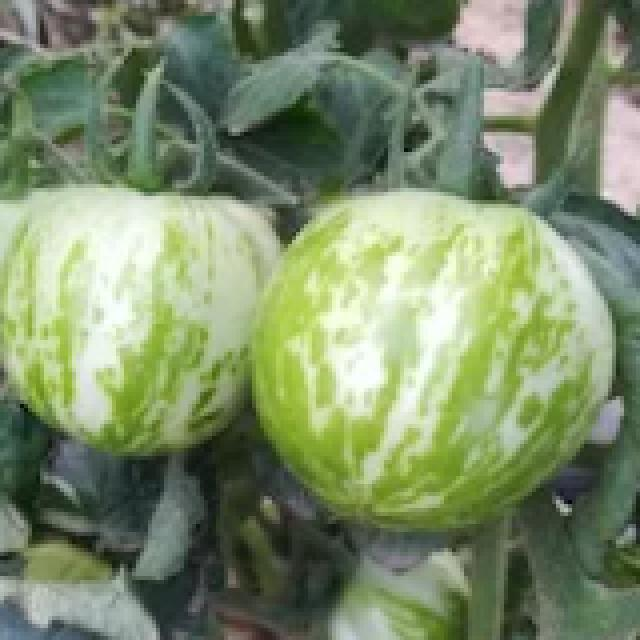yesil: (0, 109, 616, 572)
